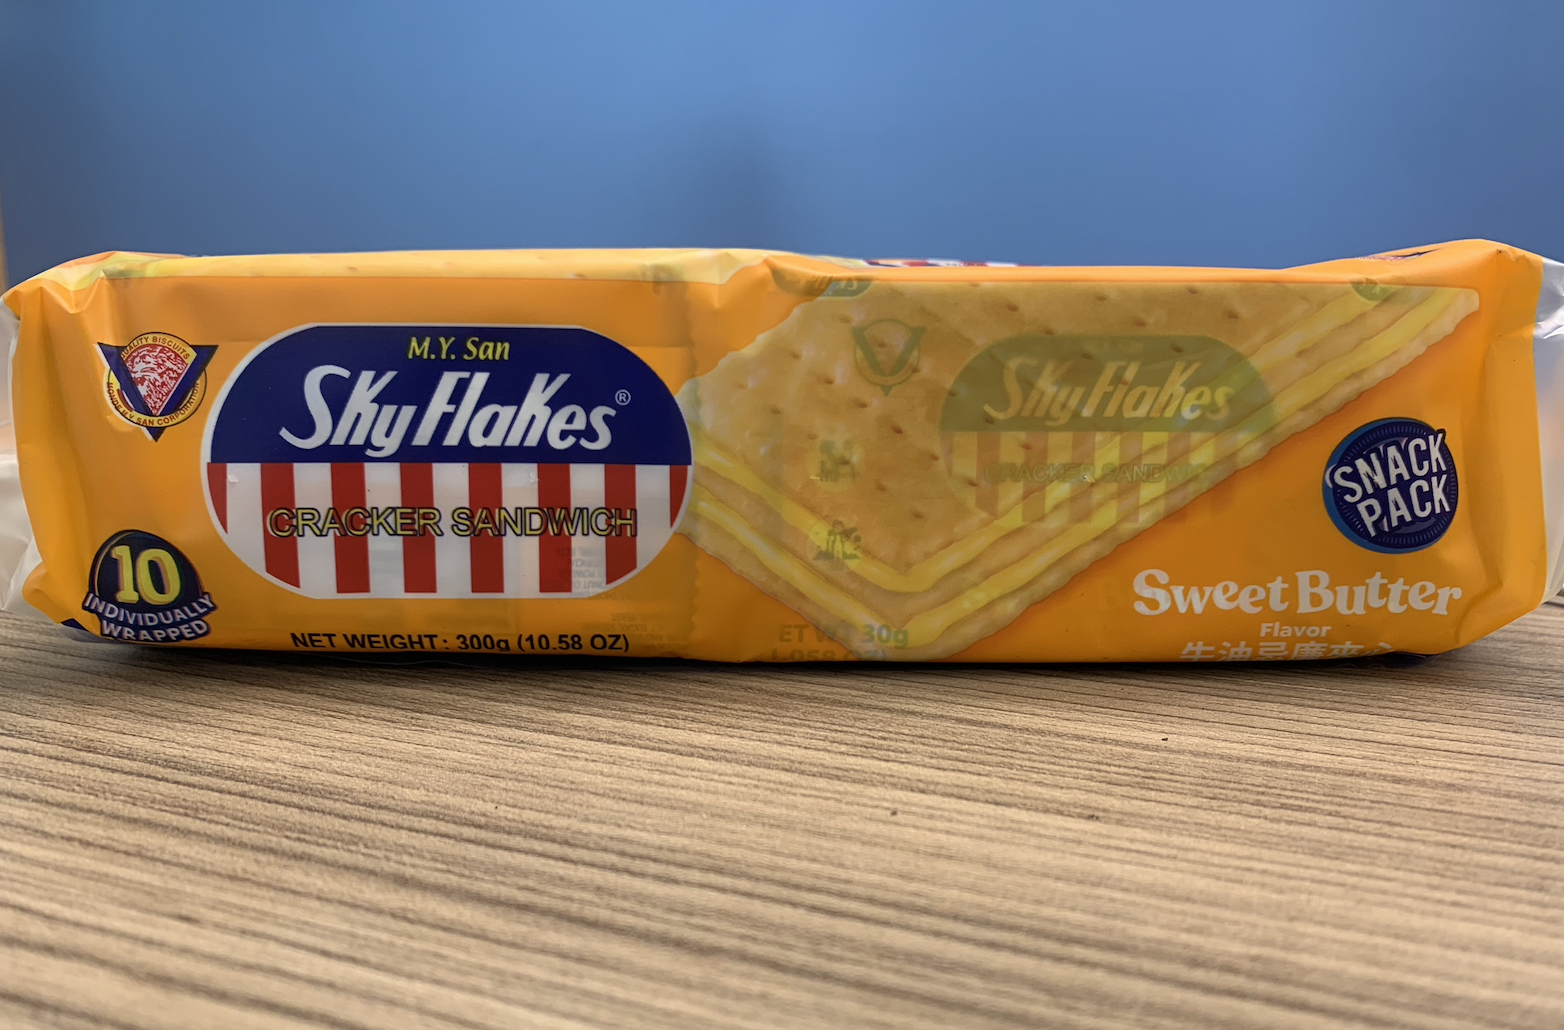crackers_300g-399g: (78, 278, 1484, 660)
